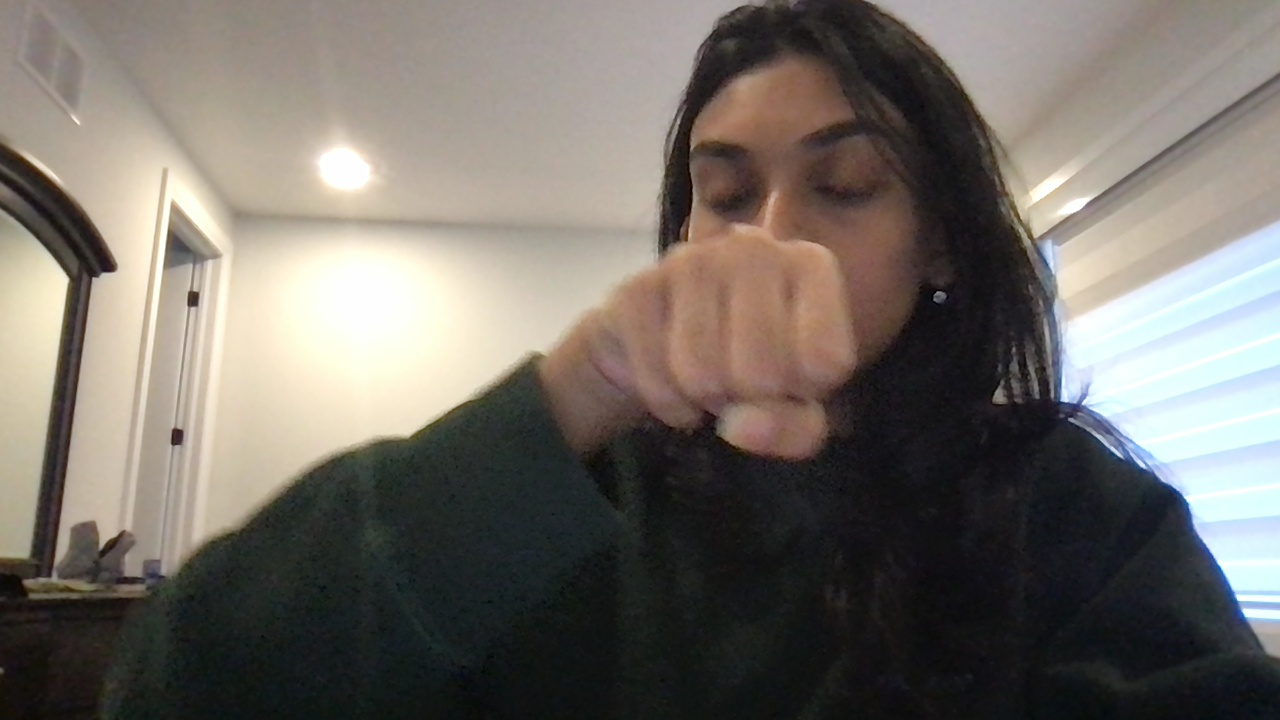Yes: (618, 225, 856, 464)
